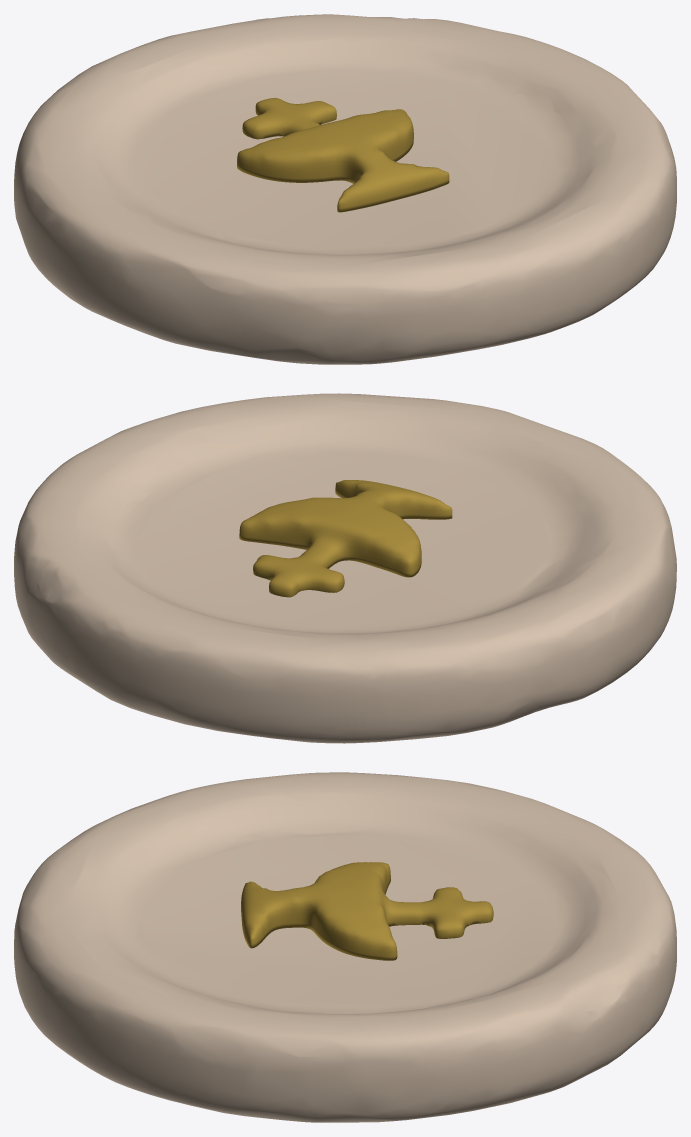
File: token-cleric-red.glb
The picture shows the model from 3 angles, top to bottom: view 1: azimuth 30°, elevation 25°; view 2: azimuth 150°, elevation 25°; view 3: azimuth 270°, elevation 25°; orthographic projection.
Visible parts, largest first — view 1: token_cleric_red; view 2: token_cleric_red; view 3: token_cleric_red.
Boxes of the visible parts, x1,y1,x2,y2 form: token_cleric_red: (14, 14, 676, 364); token_cleric_red: (14, 393, 676, 743); token_cleric_red: (14, 772, 676, 1122).
Bounding box in the file's own units: 0.414 × 0.0712 × 0.4142.
